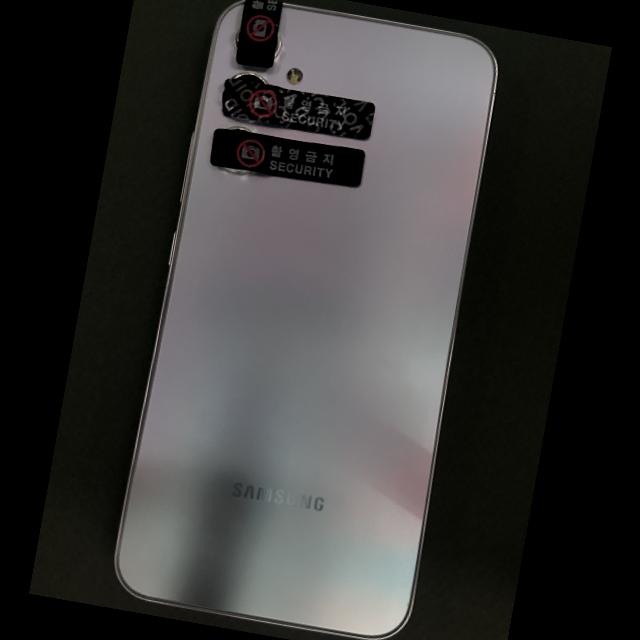lens: (233, 72, 266, 83), (228, 126, 256, 134), (274, 34, 282, 58)
phone: (116, 0, 496, 638)
sticker: (222, 78, 374, 139), (211, 129, 365, 187), (237, 0, 282, 68)
